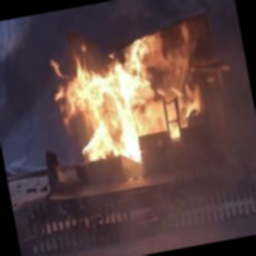fire: (47, 22, 217, 165)
